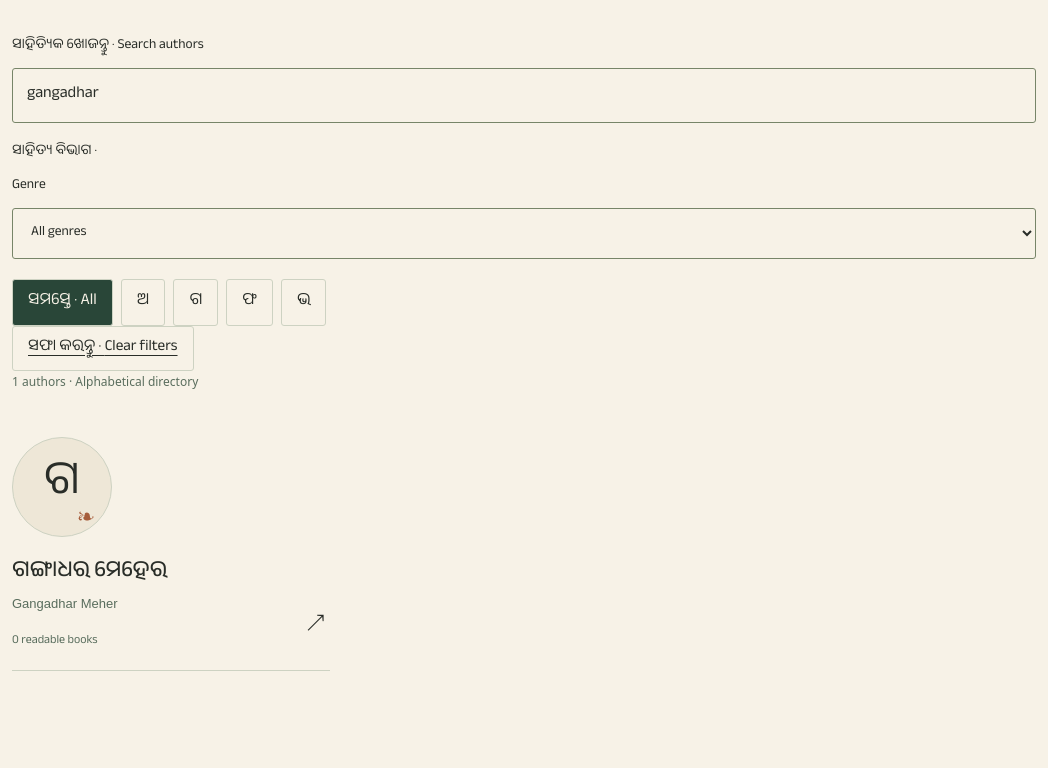
Scenario: shareable static catalog filters › validates unknown incoming filters and persists author alphabet state
The image size is (1048, 768).
Check: the search field holds "gangadhar", box [12,68,1036,123]
Check: the dropdown labelled "ସାହିତ୍ୟ ବିଭାଗ · Genre" shows "All genres", box [12,208,1036,259]
Click the button "ଗ" at (196, 303), box [173,279,218,326]
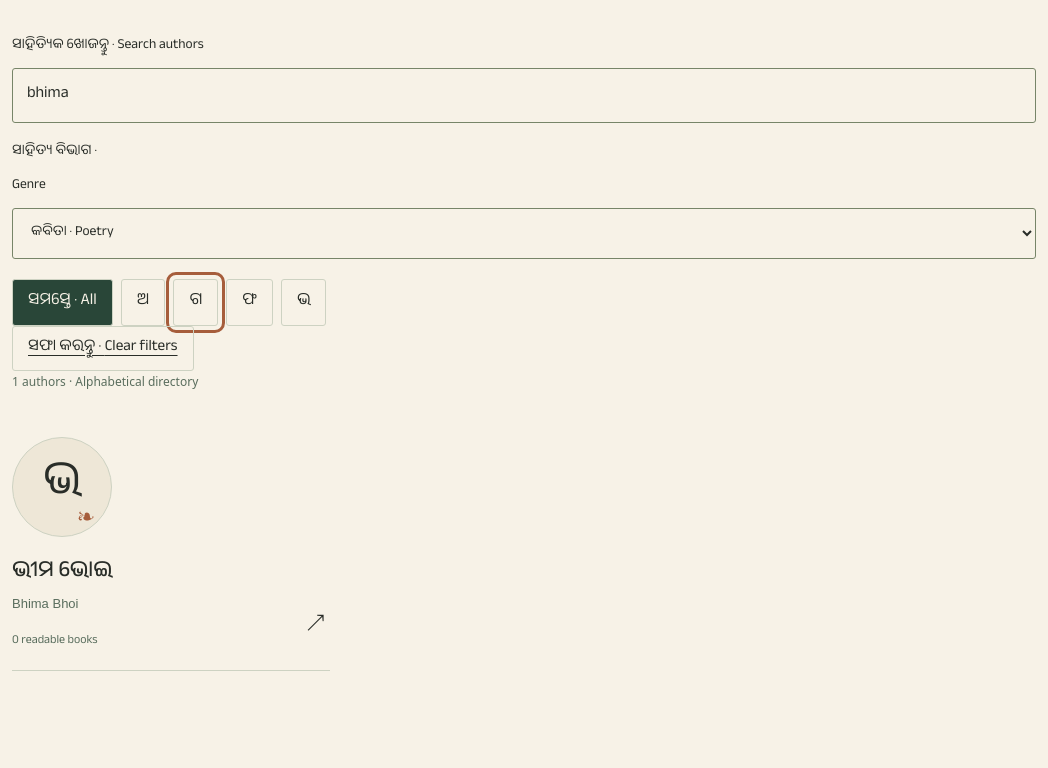
Check: the search field holds "bhima", box [12,68,1036,123]
Check: the dropdown labelled "ସାହିତ୍ୟ ବିଭାଗ · Genre" shows "କବିତା · Poetry", box [12,208,1036,259]
